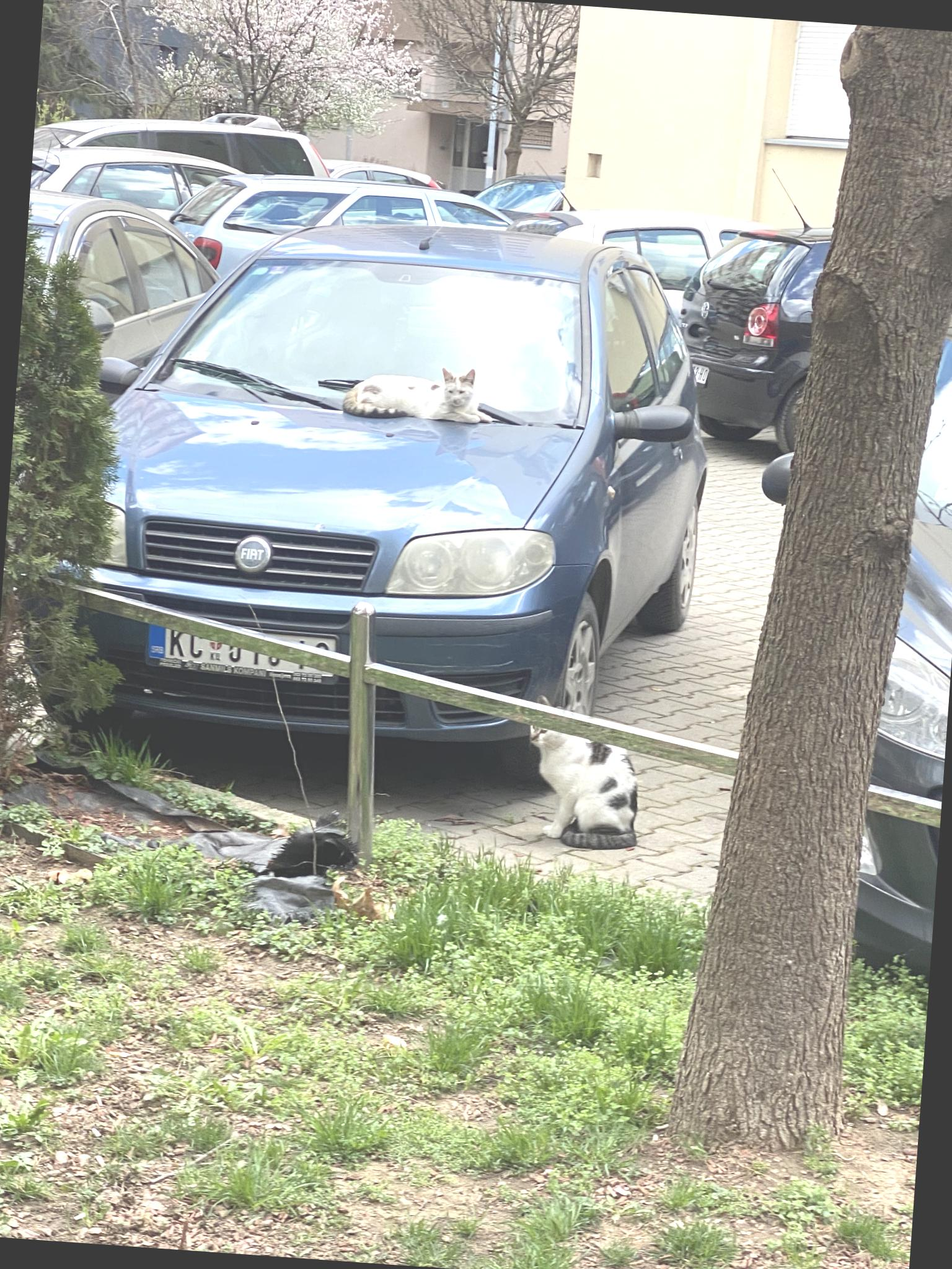macka: (520, 721, 646, 853), (344, 360, 501, 427)
